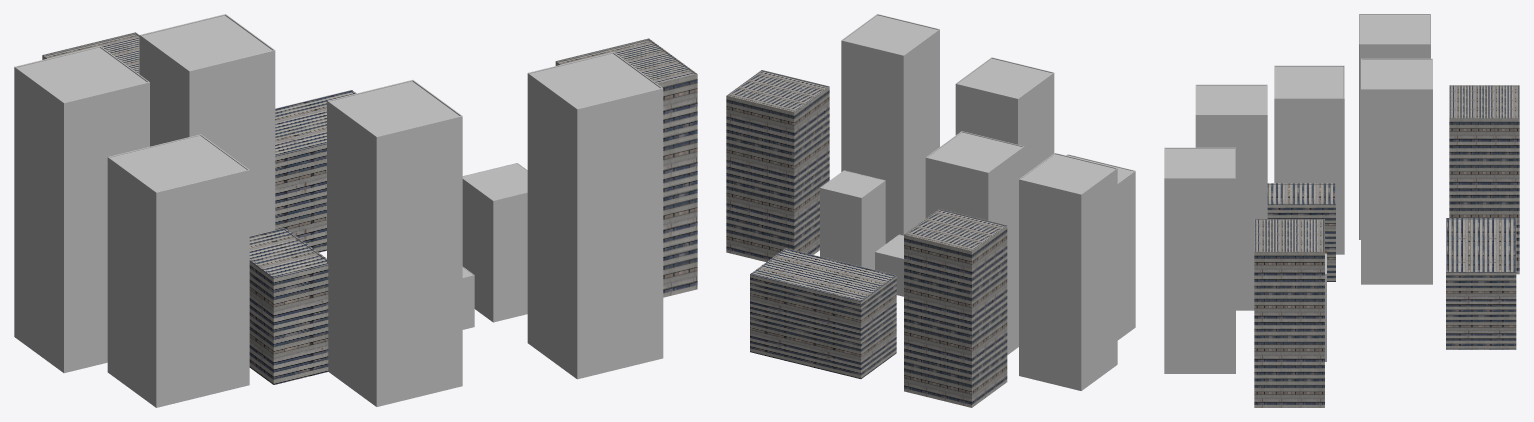
The model's file is city.FBX.
The picture shows the model from 3 angles, left to right: view 1: azimuth 30°, elevation 25°; view 2: azimuth 150°, elevation 25°; view 3: azimuth 270°, elevation 25°; orthographic projection. The views are drawn at different scales.
Visible parts, largest first — view 1: Box01; view 2: Box01; view 3: Box01.
Boxes of the visible parts, x1,y1,x2,y2 form: Box01: [14, 14, 697, 407]; Box01: [726, 14, 1135, 407]; Box01: [1164, 14, 1519, 407].
Size of the model in its own units: 3082 by 1417 by 2335.
